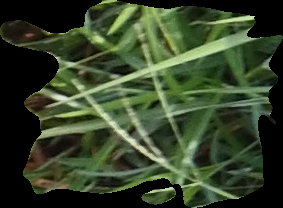grass: (1, 1, 282, 207)
